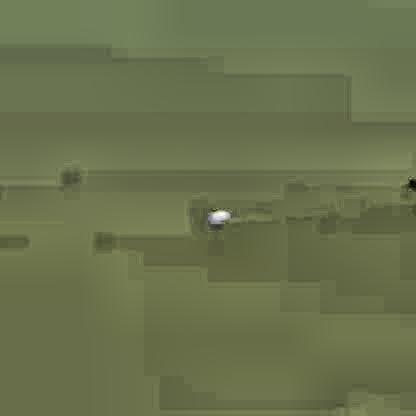golfball: (205, 207, 228, 227)
